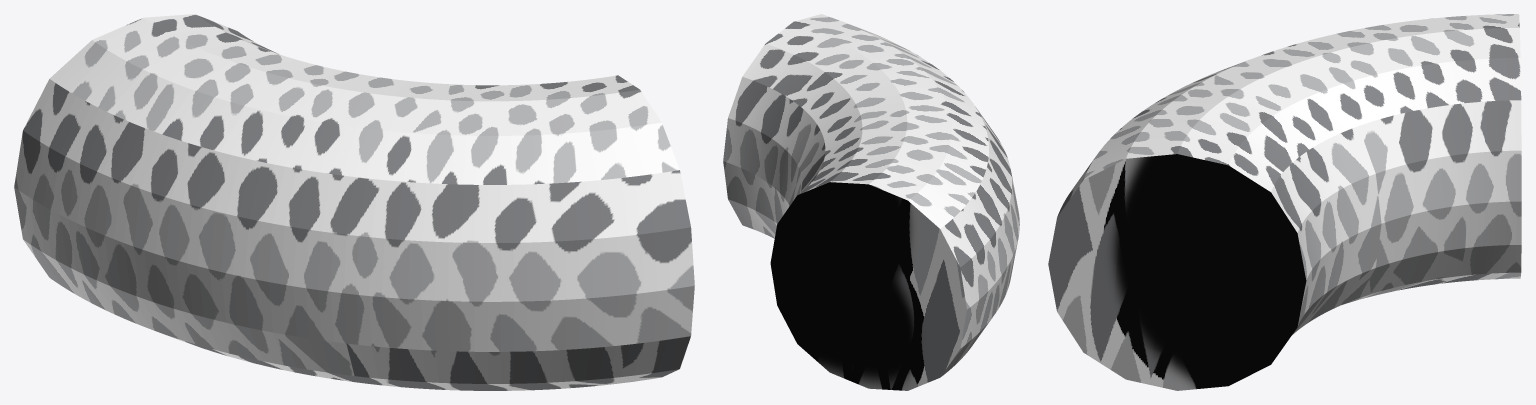
File: snake_preopognjen_texture.gltf
The picture shows the model from 3 angles, left to right: view 1: azimuth 30°, elevation 25°; view 2: azimuth 150°, elevation 25°; view 3: azimuth 270°, elevation 25°; orthographic projection. The views are drawn at different scales.
Visible parts, largest first — view 1: Cube; view 2: Cube; view 3: Cube.
Boxes of the visible parts, left/top/right/bottom form: Cube: left=14, top=14, right=694, bottom=390; Cube: left=723, top=14, right=1019, bottom=390; Cube: left=1048, top=14, right=1521, bottom=390.
Size of the model in its own units: 7.81 by 4.55 by 8.24.
Materials: 1 (1 with a texture image).
